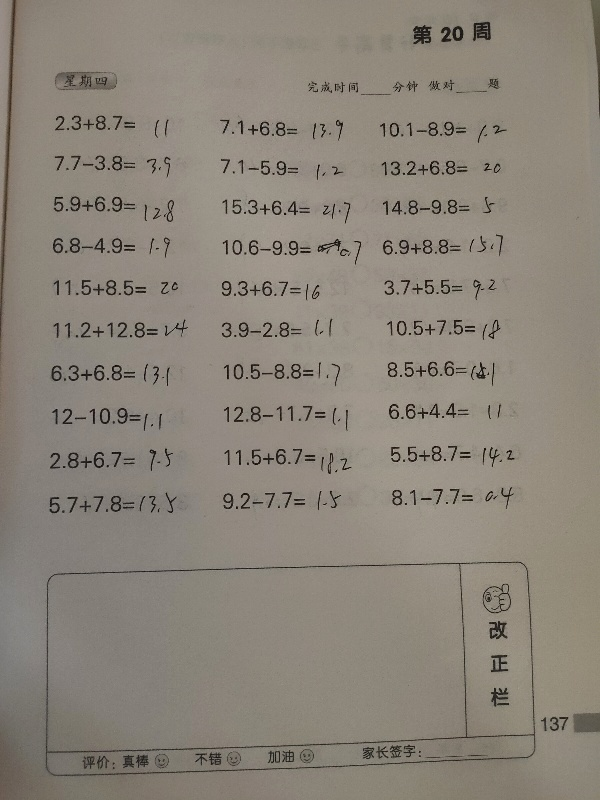equation: (35, 183, 189, 229), (209, 397, 359, 441), (371, 309, 508, 355), (47, 395, 185, 440), (36, 440, 188, 480), (369, 111, 517, 152), (213, 348, 360, 389), (208, 191, 369, 228), (216, 481, 352, 524), (213, 233, 371, 269), (37, 228, 189, 264), (44, 263, 193, 299), (376, 229, 520, 265), (213, 151, 349, 189), (216, 112, 355, 149), (211, 441, 361, 475), (207, 312, 359, 345), (371, 356, 527, 387), (45, 141, 179, 177), (380, 392, 516, 427), (44, 104, 176, 140), (376, 191, 521, 223), (209, 271, 347, 303), (46, 489, 181, 517), (373, 152, 524, 177), (389, 484, 518, 513), (46, 358, 173, 387), (386, 441, 518, 468), (49, 317, 191, 342), (381, 276, 500, 304)
